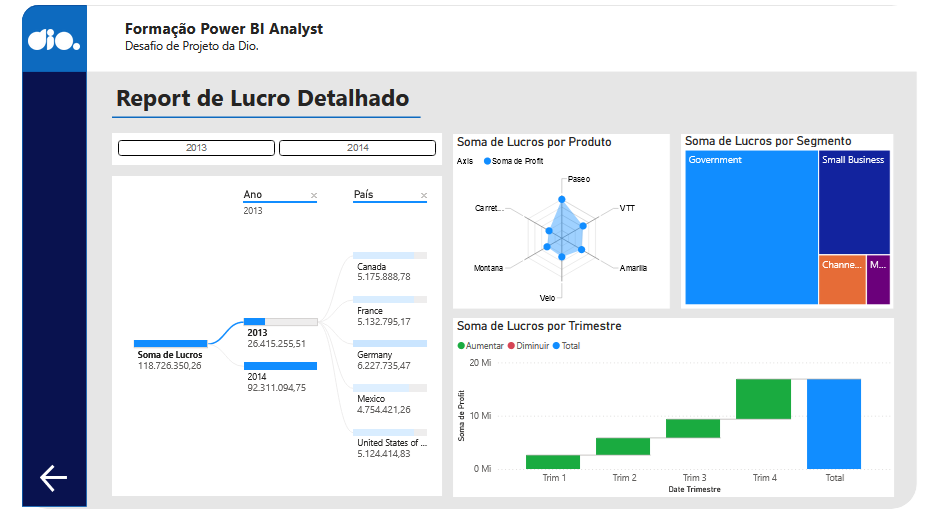

The page's visual inventory and layout, read from the dashboard file:
{"tool":"powerbi","page":{"name":"Página 2","canvas":[1280,720],"ordinal":1},"visuals":[{"type":"shape","box":[0,17.2,1234.2,695.1],"z":0},{"type":"shape","box":[124.1,149.1,425.7,44.7],"z":0,"group":"g1"},{"type":"shape","box":[0,16.4,89.3,692.1],"z":1000},{"type":"textbox","box":[123.8,115.4,455.4,56.6],"z":1000,"group":"g1"},{"type":"shape","box":[0,17.9,89.3,90.8],"z":2000},{"type":"image","title":"logo_dio","box":[3,22.3,81.9,83.3],"z":3000},{"type":"shape","box":[89.3,17.9,1165.4,90.8],"z":4000},{"type":"textbox","box":[136.1,28.6,315.8,58.8],"z":5000},{"type":"group","id":"g1","title":"Title report","box":[123.8,115.4,455.4,78.3],"z":6000},{"type":"actionButton","box":[20.8,644.5,47.6,50.6],"z":7000},{"type":"shape","box":[123.5,193.5,455.4,44.7],"z":8000},{"type":"shape","box":[123.5,253,455.4,442],"z":9000},{"type":"shape","box":[593.9,195,299.2,241.1],"z":10000},{"type":"shape","box":[909.4,195,293.2,241.1],"z":11000},{"type":"shape","box":[593.9,448,608.7,247.1],"z":12000},{"type":"ChicletSlicer1448559807354","fields":{"Category":["financials.Date.Variation.Hierarquia de datas.Ano"]},"box":[123.5,195,455.4,43.2],"z":13000},{"type":"decompositionTreeVisual","fields":{"ExplainBy":["financials.Date.Variation.Hierarquia de datas.Ano","financials.Country"],"Analyze":["Sum(financials. Sales)"]},"box":[123.5,253,455.4,442],"z":14000},{"type":"RadarChart1446119667547","title":"Soma de Lucros por Produto","fields":{"Y":["Sum(financials.Profit)"],"Category":["financials.Product"]},"box":[593.9,195,299.2,241.1],"z":15000},{"type":"treemap","title":"Soma de Lucros por Segmento","fields":{"Values":["Sum(financials.Profit)"],"Group":["financials.Segment"]},"box":[909.4,193.5,293.2,242.6],"z":16000},{"type":"waterfallChart","title":"Soma de Lucros por Trimestre","fields":{"Y":["Sum(financials.Profit)"],"Category":["financials.Date.Variation.Hierarquia de datas.Trimestre"]},"box":[593.9,448,608.7,247.1],"z":17000}]}

Visuals, with their boxes on the page's 1280x720 design canvas (x1, y1, x2, y2). These are canvas units, not pixel positions in the 938x513 screenshot, which may show the page scaled, cropped or inside an application window:
shape: 0 17 1234 712
shape: 124 149 550 194
shape: 0 16 89 708
textbox: 124 115 579 172
shape: 0 18 89 109
"logo_dio" image: 3 22 85 106
shape: 89 18 1255 109
textbox: 136 29 452 87
"Title report" group: 124 115 579 194
actionButton: 21 644 68 695
shape: 124 194 579 238
shape: 124 253 579 695
shape: 594 195 893 436
shape: 909 195 1203 436
shape: 594 448 1203 695
ChicletSlicer1448559807354 - financials.Date.Variation.Hierarquia de datas.Ano: 124 195 579 238
decompositionTreeVisual - financials.Date.Variation.Hierarquia de datas.Ano x financials.Country: 124 253 579 695
"Soma de Lucros por Produto" RadarChart1446119667547: 594 195 893 436
"Soma de Lucros por Segmento" treemap: 909 194 1203 436
"Soma de Lucros por Trimestre" waterfallChart: 594 448 1203 695
